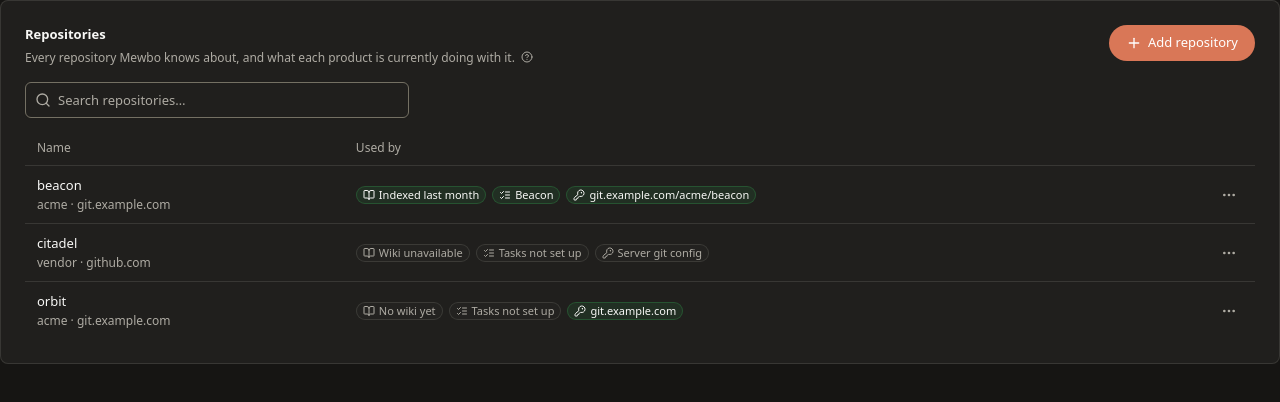
Test case: RepositoriesPane › a deployment without the graph extra is offered no wiki actions at all
Step 1. Click the button named "Actions for citadel" → (1229, 253), box top-left (1215, 239), bottom-right (1243, 267)
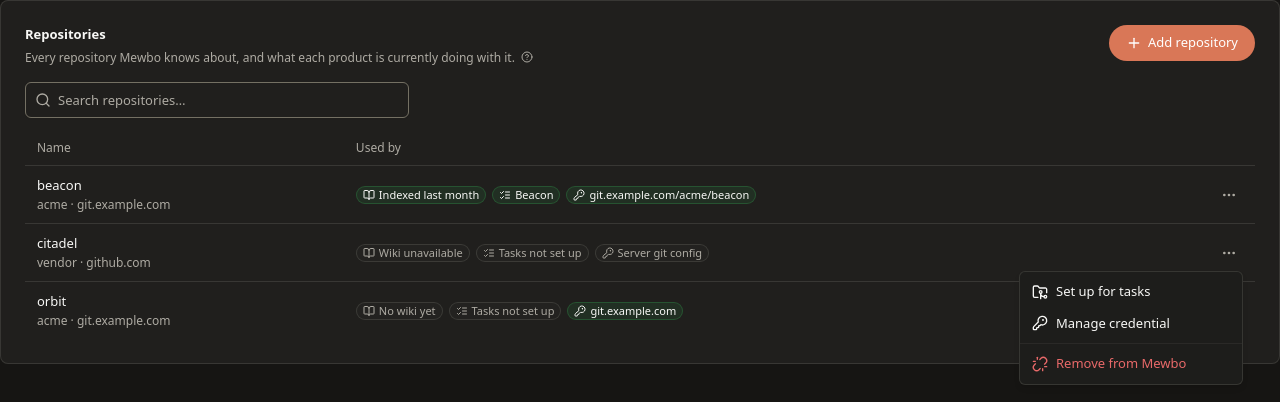
Expected: the menu item "Remove from Mewbo" is shown, top-left (1032, 354), bottom-right (1186, 372)
